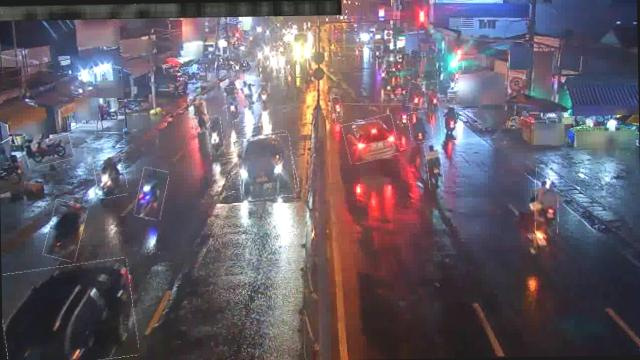Bike: (236, 132, 297, 198), (46, 200, 86, 261), (136, 167, 168, 219), (534, 167, 558, 233), (26, 136, 74, 166), (94, 156, 126, 197), (426, 142, 444, 190), (408, 110, 434, 142), (439, 98, 458, 141), (206, 116, 224, 160), (189, 96, 209, 132), (408, 82, 428, 108), (118, 99, 147, 116), (224, 86, 238, 120), (424, 81, 439, 111), (240, 79, 255, 106), (258, 82, 270, 108), (332, 96, 342, 120)
Car: (1, 260, 137, 360), (237, 134, 295, 200), (344, 115, 399, 161)
